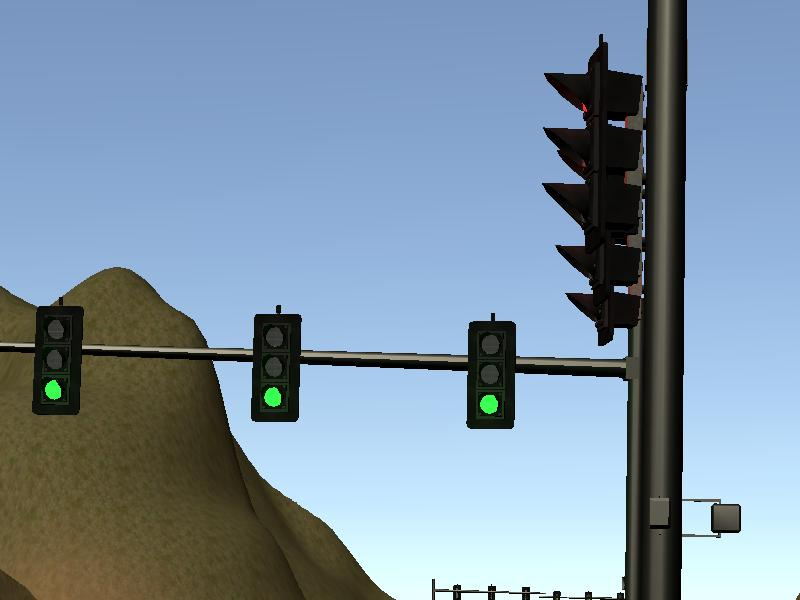not_red: (252, 312, 301, 422), (467, 318, 515, 428), (35, 303, 80, 413)
